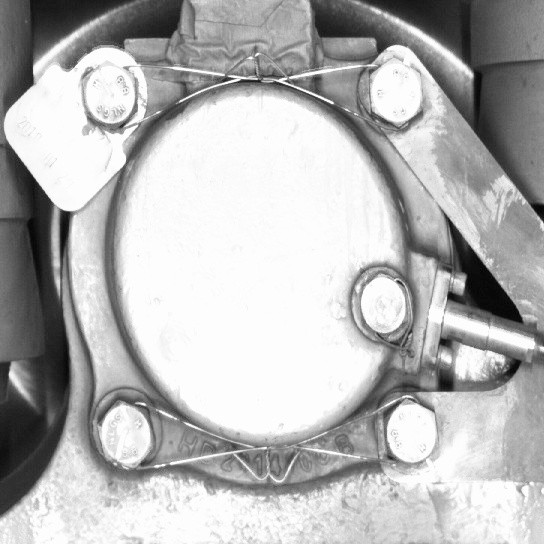IronWire: (84, 384, 444, 476), (76, 54, 429, 133)
Screw: (85, 385, 166, 477), (367, 387, 445, 475), (351, 261, 414, 348), (76, 55, 142, 137), (361, 53, 428, 132)
